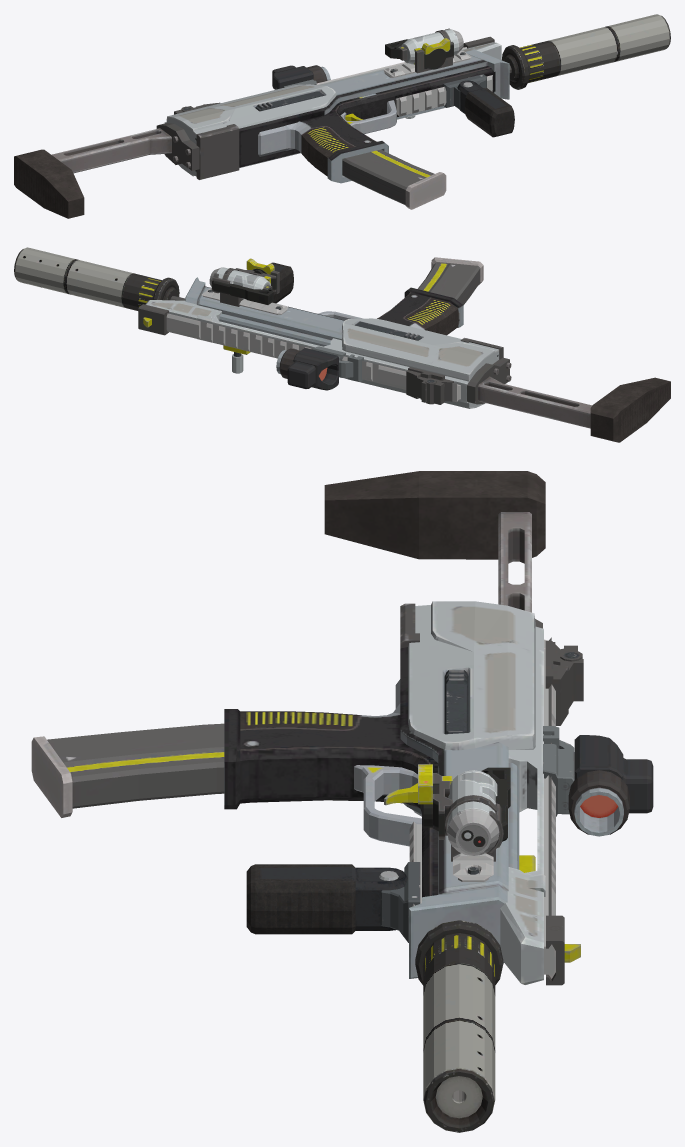
The picture shows the model from 3 angles, top to bottom: view 1: azimuth 30°, elevation 25°; view 2: azimuth 150°, elevation 25°; view 3: azimuth 270°, elevation 25°; orthographic projection. The views are drawn at different scales.
Parts seen in each view (by area): view 1: wp01c_a001a_sm.mo, wp01c_muzzle001a_sm.mo, wp01c_magazine001a_sm.mo, wp01c_attach001a_sm.mo, wp01c_scope001a_sm.mo; view 2: wp01c_a001a_sm.mo, wp01c_muzzle001a_sm.mo, wp01c_scope001a_sm.mo, wp01c_attach001a_sm.mo, wp01c_magazine001a_sm.mo; view 3: wp01c_a001a_sm.mo, wp01c_muzzle001a_sm.mo, wp01c_magazine001a_sm.mo, wp01c_scope001a_sm.mo, wp01c_attach001a_sm.mo.
Part boxes in pixels (box(x1,y1,x2,y2)): wp01c_a001a_sm.mo: box(14, 36, 514, 218); wp01c_muzzle001a_sm.mo: box(502, 14, 670, 89); wp01c_magazine001a_sm.mo: box(342, 149, 446, 209); wp01c_attach001a_sm.mo: box(385, 28, 463, 73); wp01c_scope001a_sm.mo: box(272, 65, 330, 89); wp01c_a001a_sm.mo: box(138, 262, 670, 442); wp01c_muzzle001a_sm.mo: box(14, 247, 179, 310); wp01c_scope001a_sm.mo: box(276, 346, 363, 390); wp01c_attach001a_sm.mo: box(209, 258, 279, 306); wp01c_magazine001a_sm.mo: box(418, 257, 483, 304); wp01c_a001a_sm.mo: box(224, 471, 583, 985); wp01c_muzzle001a_sm.mo: box(415, 920, 503, 1132); wp01c_magazine001a_sm.mo: box(31, 723, 224, 817); wp01c_scope001a_sm.mo: box(543, 726, 653, 836); wp01c_attach001a_sm.mo: box(418, 764, 510, 861).
Size of the model in its own units: 0.6715 by 0.0945 by 0.2938.
6 materials, 6 textured.
